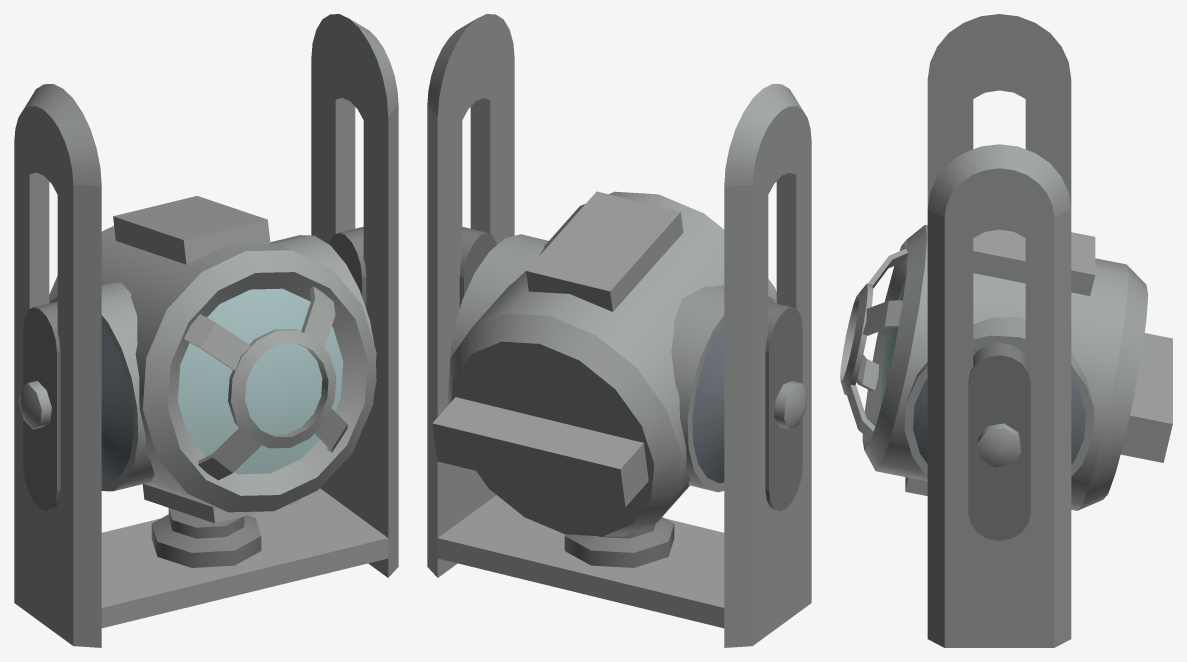
3 views of the same model, side by side, from view 1: azimuth 30°, elevation 25°; view 2: azimuth 150°, elevation 25°; view 3: azimuth 270°, elevation 25° (orthographic). The views are drawn at different scales.
Visible parts, largest first — view 1: G:\FFXIV-MapTools\exports\u5f1\bg\ex4\04_uvs_u5\fld\u5f1\bgp (×3); view 2: G:\FFXIV-MapTools\exports\u5f1\bg\ex4\04_uvs_u5\fld\u5f1\bgp (×2); view 3: G:\FFXIV-MapTools\exports\u5f1\bg\ex4\04_uvs_u5\fld\u5f1\bgp (×3).
Part boxes in pixels (left/top/right/bottom): G:\FFXIV-MapTools\exports\u5f1\bg\ex4\04_uvs_u5\fld\u5f1\bgp (×3): left=14, top=14, right=398, bottom=647; G:\FFXIV-MapTools\exports\u5f1\bg\ex4\04_uvs_u5\fld\u5f1\bgp (×2): left=427, top=14, right=811, bottom=647; G:\FFXIV-MapTools\exports\u5f1\bg\ex4\04_uvs_u5\fld\u5f1\bgp (×3): left=840, top=14, right=1172, bottom=647.
Size of the model in its own units: 0.9497 by 1.3 by 0.7937.
